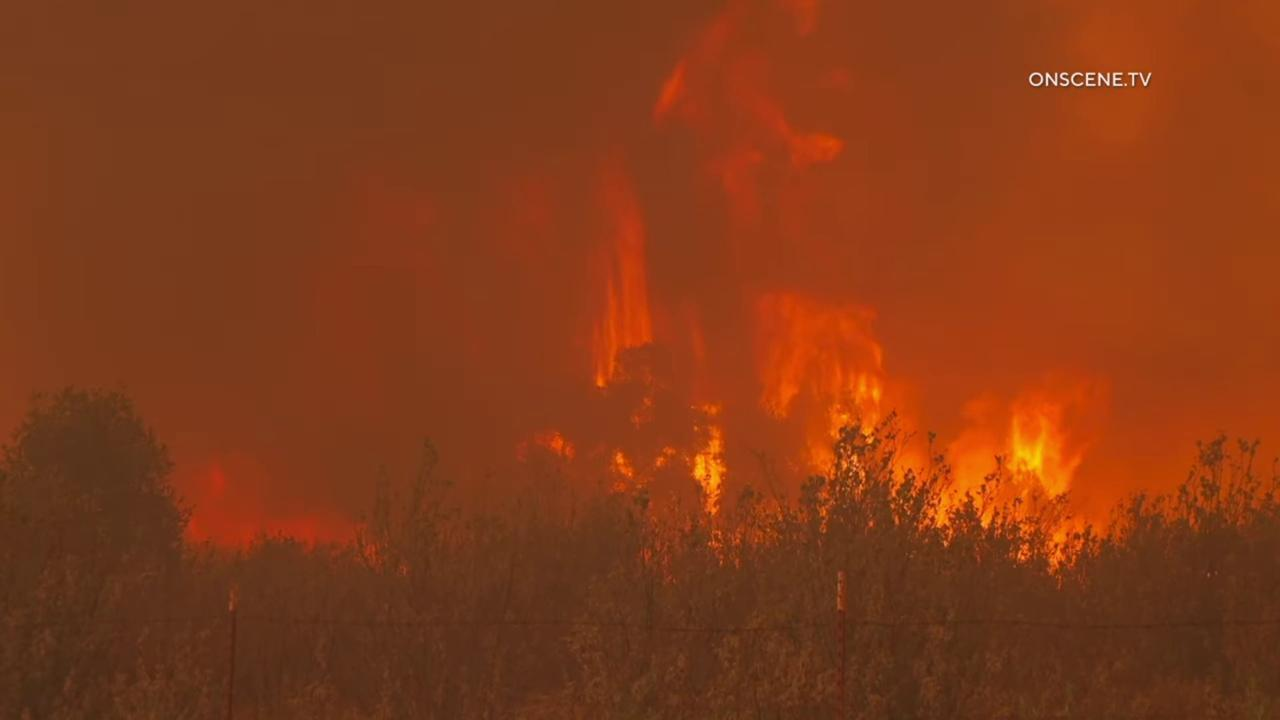fire: (748, 282, 1130, 597), (507, 133, 729, 575), (651, 0, 853, 239), (147, 468, 392, 573)
smoke: (0, 0, 1280, 720)
